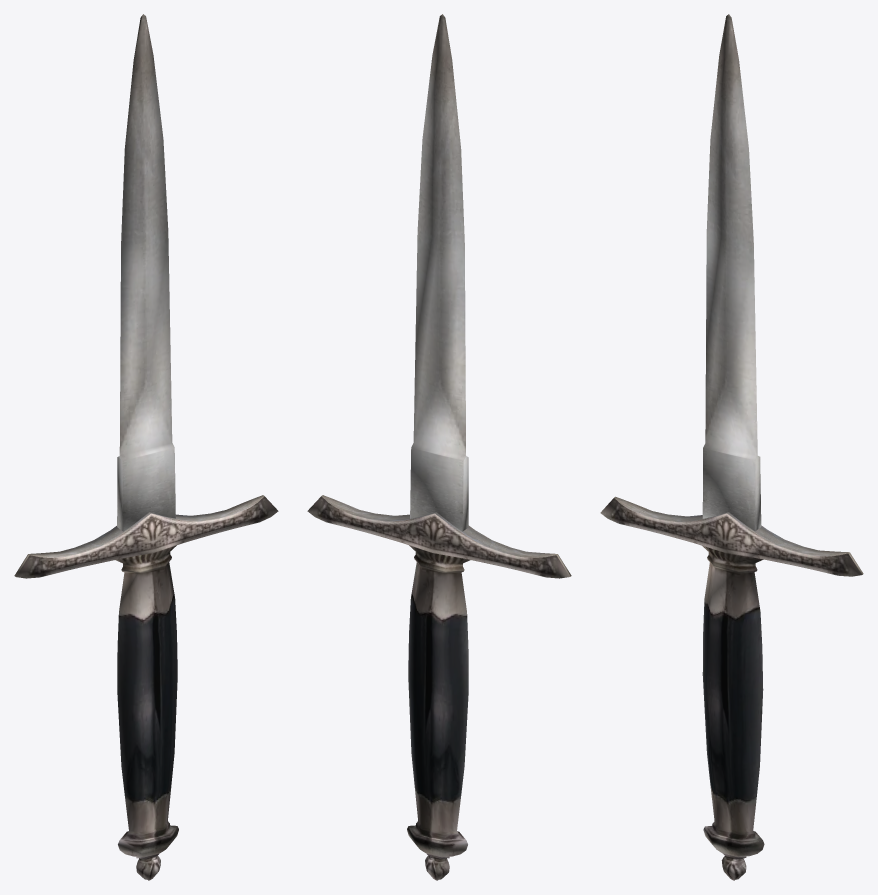
The model's file is silver_dagger.glb.
3 views of the same model, side by side, from view 1: azimuth 30°, elevation 25°; view 2: azimuth 150°, elevation 25°; view 3: azimuth 330°, elevation 25° (orthographic).
Parts seen in each view (by area): view 1: silver_dagger; view 2: silver_dagger; view 3: silver_dagger.
Part boxes in pixels (<box>): silver_dagger: <box>14,14,278,880</box>; silver_dagger: <box>307,14,571,880</box>; silver_dagger: <box>600,14,863,880</box>.
Size of the model in its own units: 0.152 by 0.48 by 0.0182.
1 material, 1 textured.
